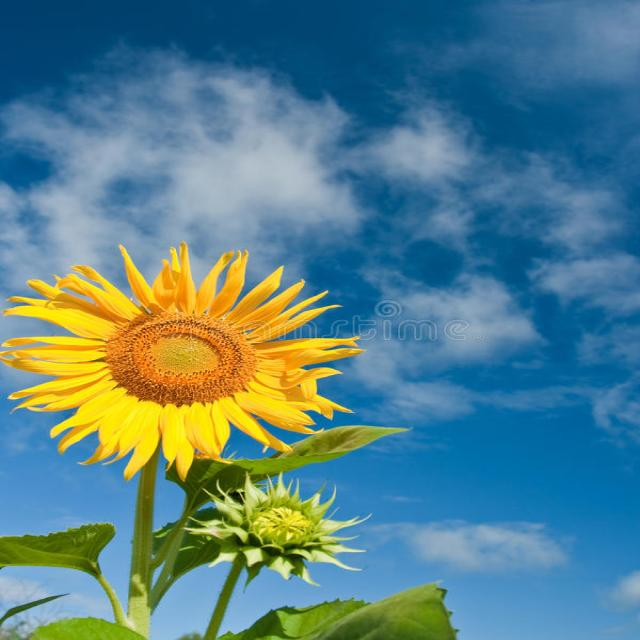sunflower: (3, 248, 385, 482), (178, 461, 377, 592)
